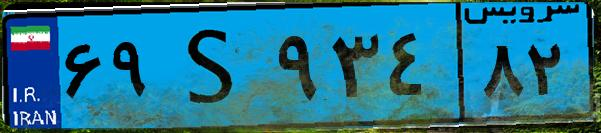2: (525, 38, 570, 115)
3: (330, 28, 385, 110)
4: (385, 28, 445, 110)
6: (57, 26, 110, 100)
8: (475, 38, 525, 113)
9: (270, 28, 330, 110), (110, 28, 158, 98)
S: (158, 12, 270, 120)
